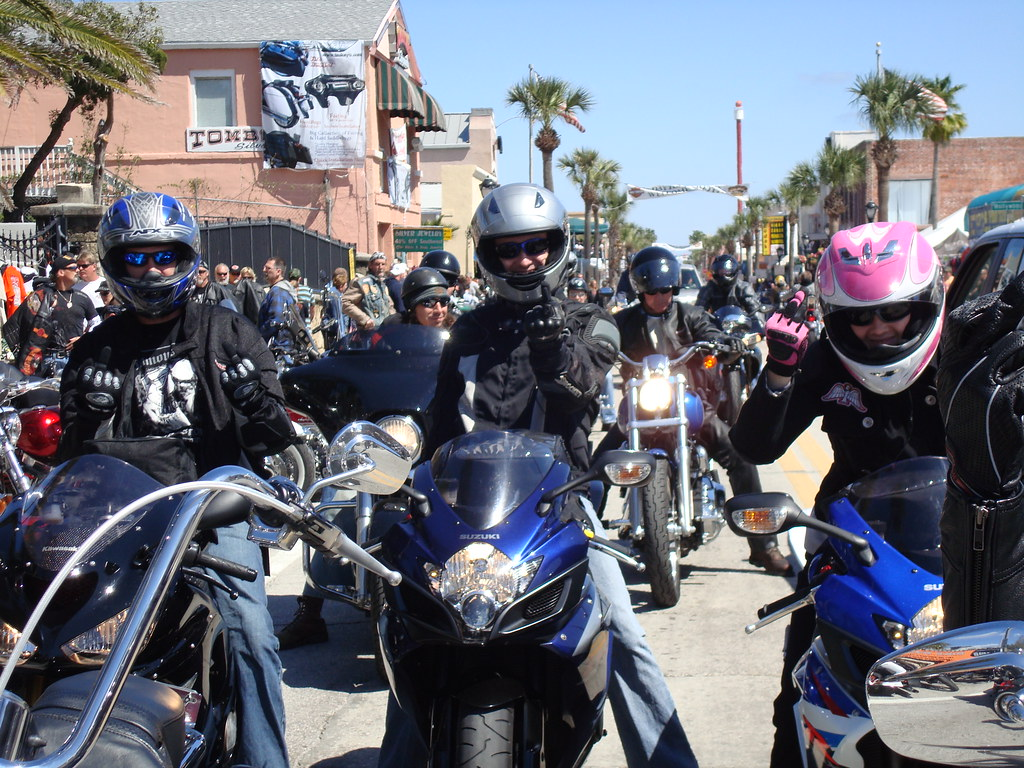helmet: (812, 217, 952, 401), (467, 175, 580, 308), (95, 197, 199, 303), (628, 248, 687, 313)
